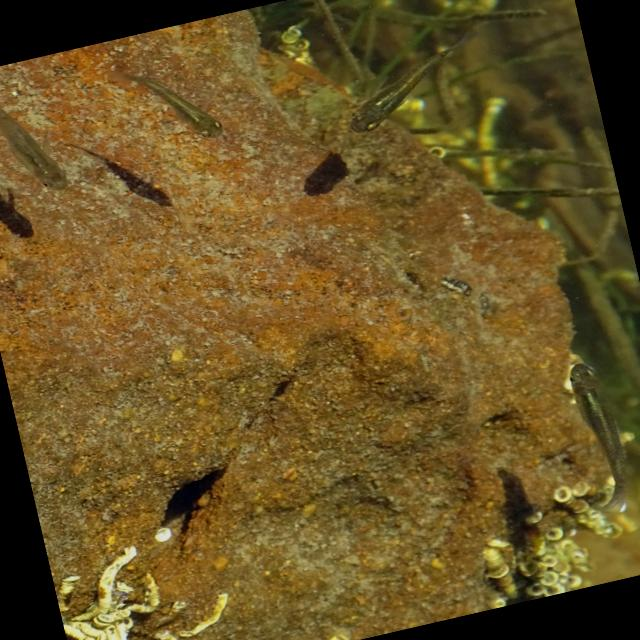Sivrisinek Baligi: (328, 32, 488, 153), (553, 352, 640, 544), (0, 55, 82, 208), (129, 56, 230, 158)
